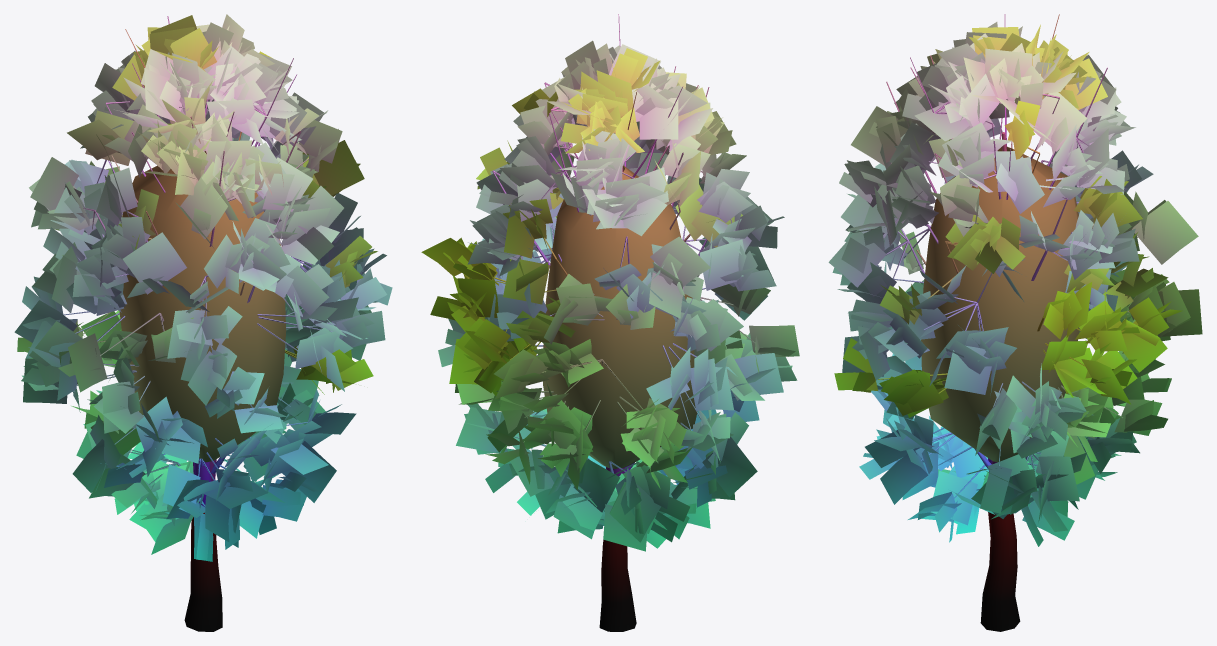
File: windbreak_tree.glb
The picture shows the model from 3 angles, left to right: view 1: azimuth 30°, elevation 25°; view 2: azimuth 150°, elevation 25°; view 3: azimuth 270°, elevation 25°; orthographic projection. The views are drawn at different scales.
Visible parts, largest first — view 1: windbreak_tree; view 2: windbreak_tree; view 3: windbreak_tree.
Boxes of the visible parts, x1,y1,x2,y2 form: windbreak_tree: (14,14,392,631); windbreak_tree: (421,14,799,631); windbreak_tree: (828,14,1202,631).
Size of what is drawn, in the model's own units: 5.1 by 8.9 by 5.1.
